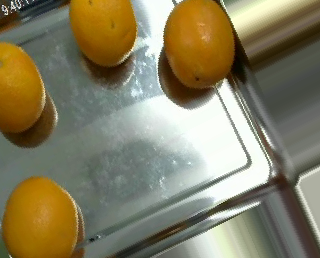Orange: (162, 1, 235, 89), (1, 176, 78, 257), (68, 1, 138, 67), (1, 41, 46, 132)
